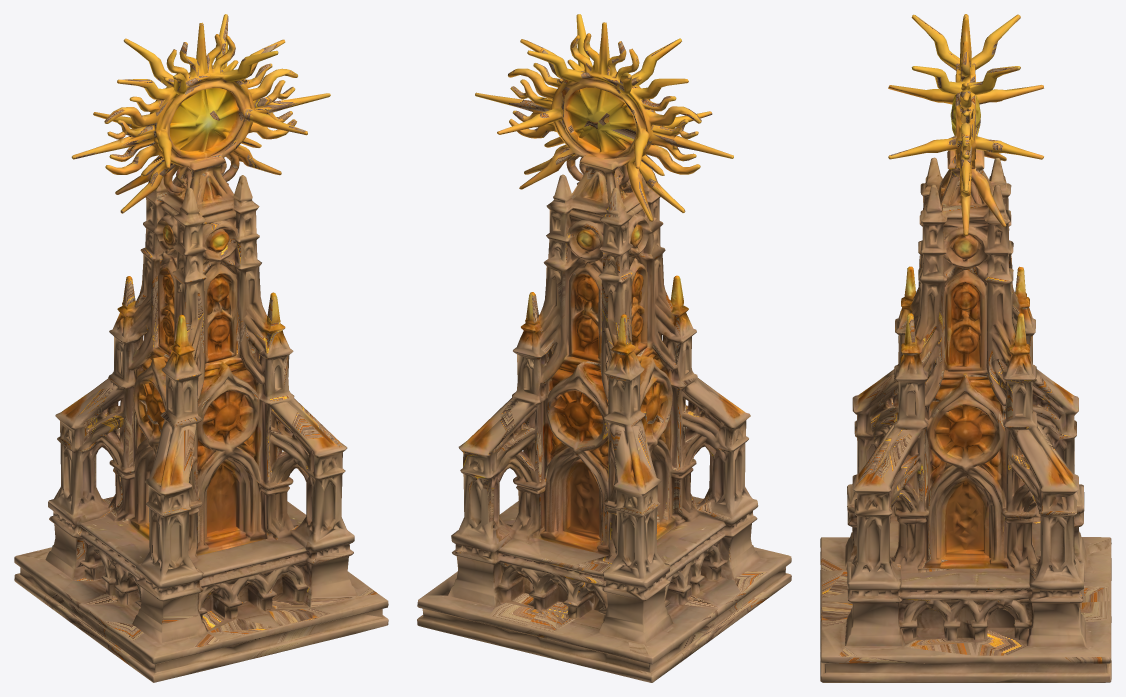
3 views of the same model, side by side, from view 1: azimuth 30°, elevation 25°; view 2: azimuth 150°, elevation 25°; view 3: azimuth 270°, elevation 25° (orthographic). The views are drawn at different scales.
Visible parts, largest first — view 1: untitled; view 2: untitled; view 3: untitled.
Part boxes in pixels (x1,y1,x2,y2): untitled: [14, 14, 388, 682]; untitled: [417, 14, 791, 682]; untitled: [820, 14, 1111, 682].
Bounding box in the file's own units: 0.9312 × 2 × 0.8723.
Materials: 1 (1 with a texture image).
